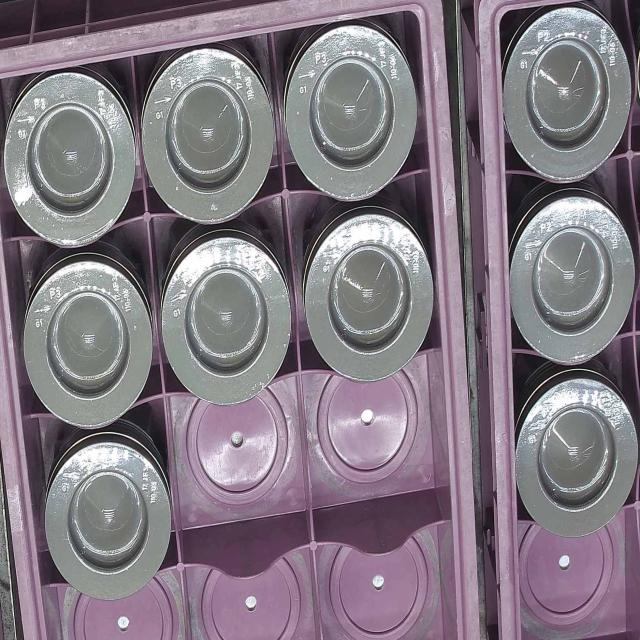P2: (498, 192, 638, 368), (498, 15, 637, 186), (502, 374, 640, 538)
P3: (12, 262, 158, 428), (284, 33, 424, 205), (5, 68, 138, 249), (34, 441, 174, 605), (301, 214, 436, 380), (164, 235, 295, 406), (146, 58, 278, 221)
